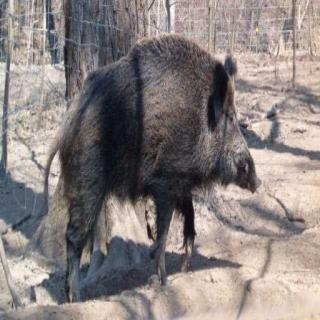Pig: (20, 22, 263, 300)
